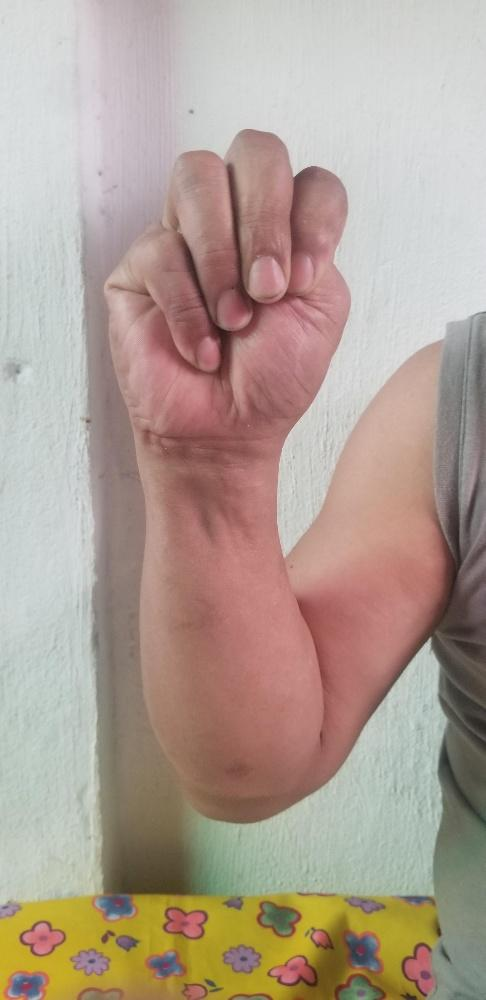m: (103, 128, 352, 433)
